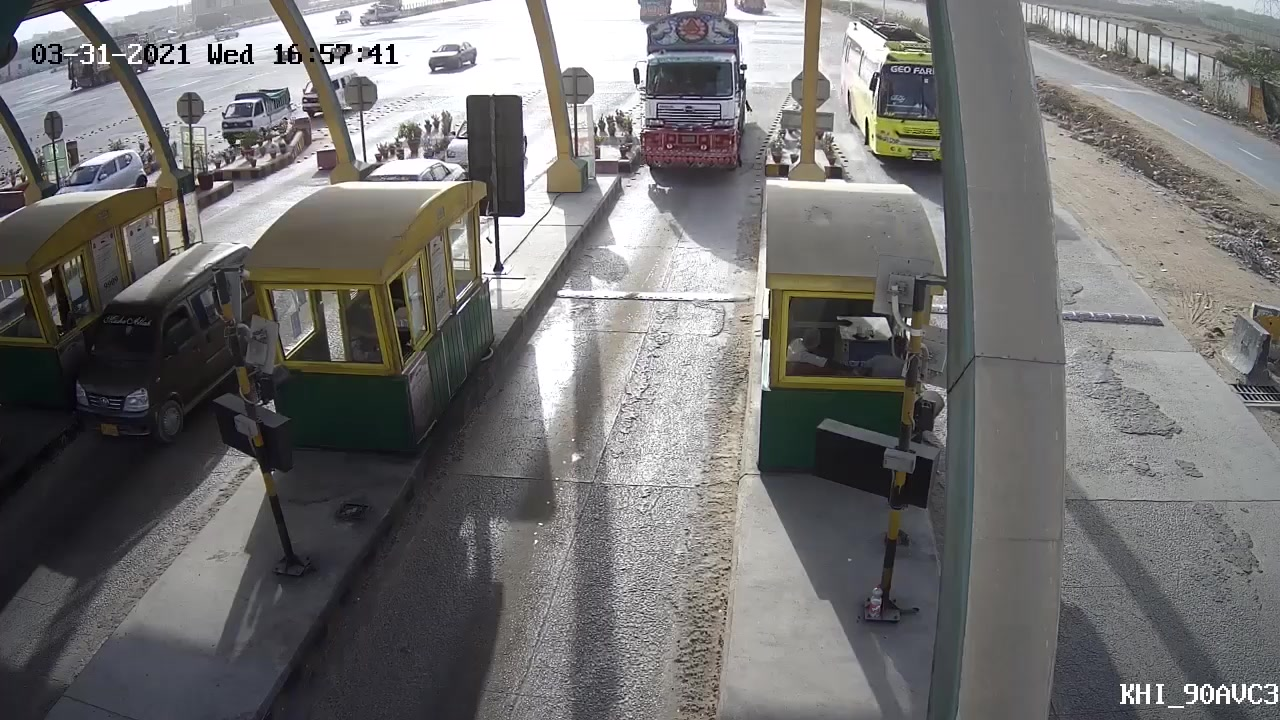F5: (629, 7, 755, 195)
